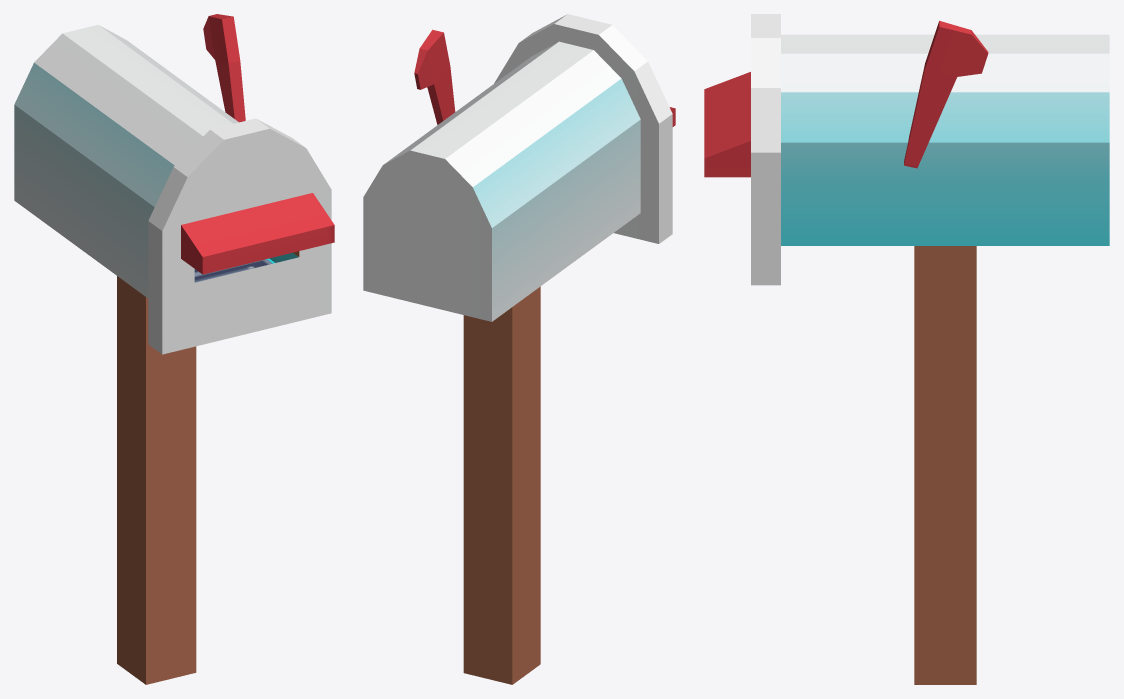
Rendered from Caixa de Correio.v1.fbx.
The picture shows the model from 3 angles, left to right: view 1: azimuth 30°, elevation 25°; view 2: azimuth 150°, elevation 25°; view 3: azimuth 270°, elevation 25°; orthographic projection. The views are drawn at different scales.
Parts seen in each view (by area): view 1: Caixa de Correio; view 2: Caixa de Correio; view 3: Caixa de Correio.
Boxes of the visible parts, x1=… form: Caixa de Correio: x1=14, y1=14, x2=334, y2=684; Caixa de Correio: x1=363, y1=14, x2=675, y2=684; Caixa de Correio: x1=704, y1=14, x2=1109, y2=684.
Bounding box in the file's own units: 25.63 × 49.38 × 91.92.
